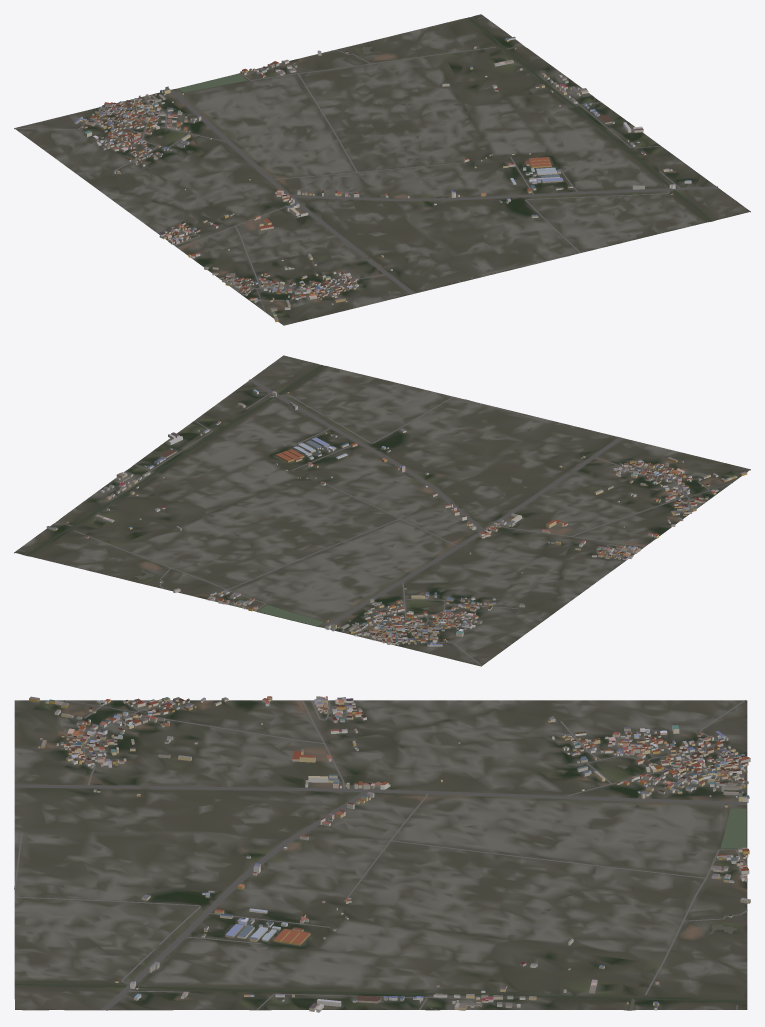
3 renders of one model, top to bottom at view 1: azimuth 30°, elevation 25°; view 2: azimuth 150°, elevation 25°; view 3: azimuth 270°, elevation 25°, orthographic. The views are drawn at different scales.
Visible parts, largest first — view 1: ground, buildings, roads, water; view 2: ground, buildings, roads, water; view 3: ground, buildings, roads, water.
Boxes of the visible parts, bbox=[...] form: ground: bbox=[14, 14, 750, 325]; buildings: bbox=[74, 36, 691, 322]; roads: bbox=[14, 16, 718, 312]; water: bbox=[158, 17, 712, 221]; ground: bbox=[14, 355, 750, 666]; buildings: bbox=[46, 389, 747, 646]; roads: bbox=[18, 379, 732, 666]; water: bbox=[26, 365, 429, 626]; ground: bbox=[14, 700, 747, 1010]; buildings: bbox=[29, 696, 750, 1012]; roads: bbox=[14, 700, 747, 1010]; water: bbox=[15, 765, 747, 1010].
Size of the model in its own units: 1420 by 20.42 by 1410.
